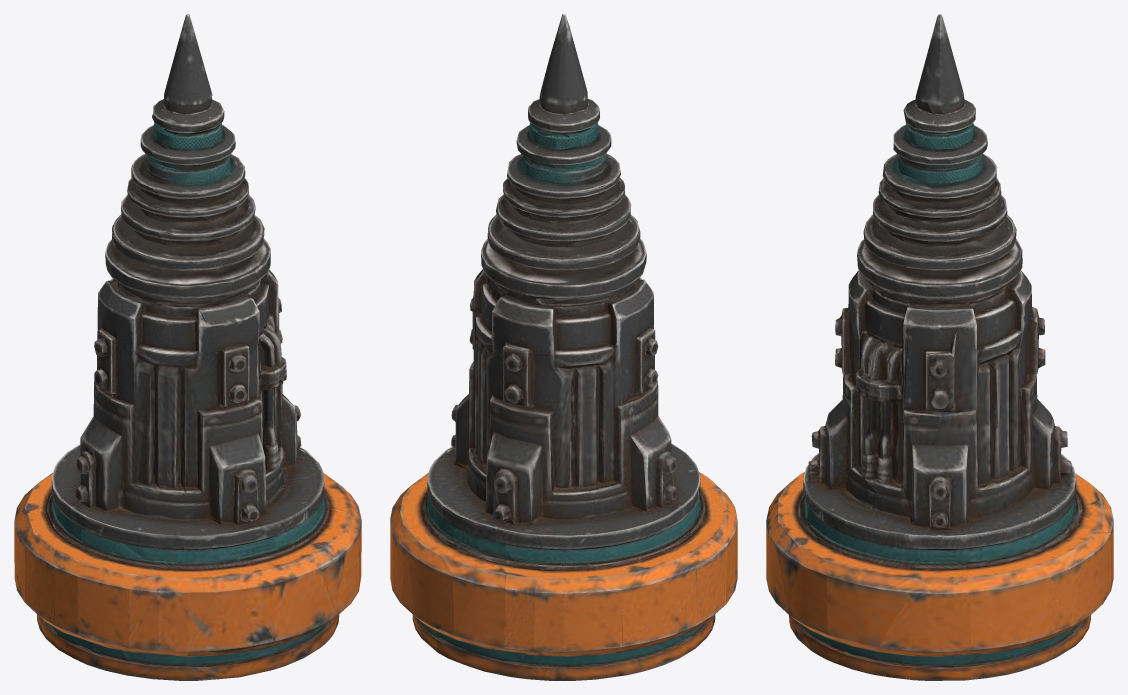
Rendered from emp.glb.
3 renders of one model, left to right at view 1: azimuth 30°, elevation 25°; view 2: azimuth 150°, elevation 25°; view 3: azimuth 270°, elevation 25°, orthographic.
Visible parts, largest first — view 1: Mesh_0; view 2: Mesh_0; view 3: Mesh_0.
Part boxes in pixels (<box>): Mesh_0: <box>14,14,361,680</box>; Mesh_0: <box>390,14,737,680</box>; Mesh_0: <box>766,14,1113,680</box>.
Size of the model in its own units: 0.4176 by 0.8 by 0.4175.
Materials: 1 (1 with a texture image).
